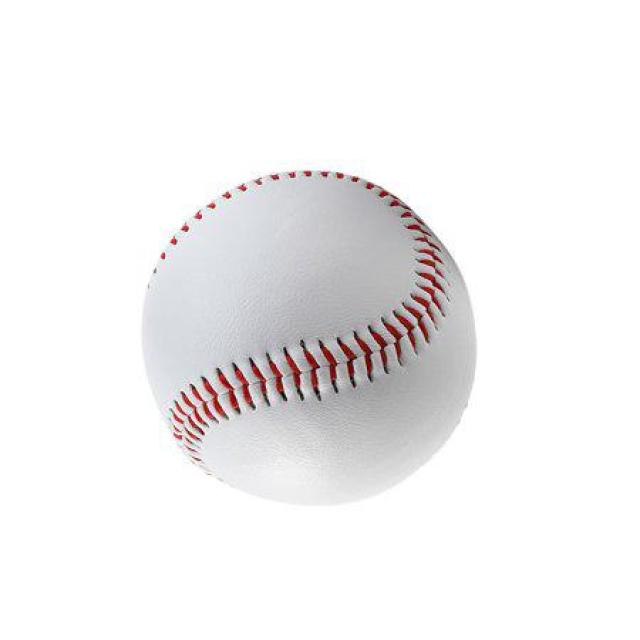ball: (135, 158, 482, 508)
